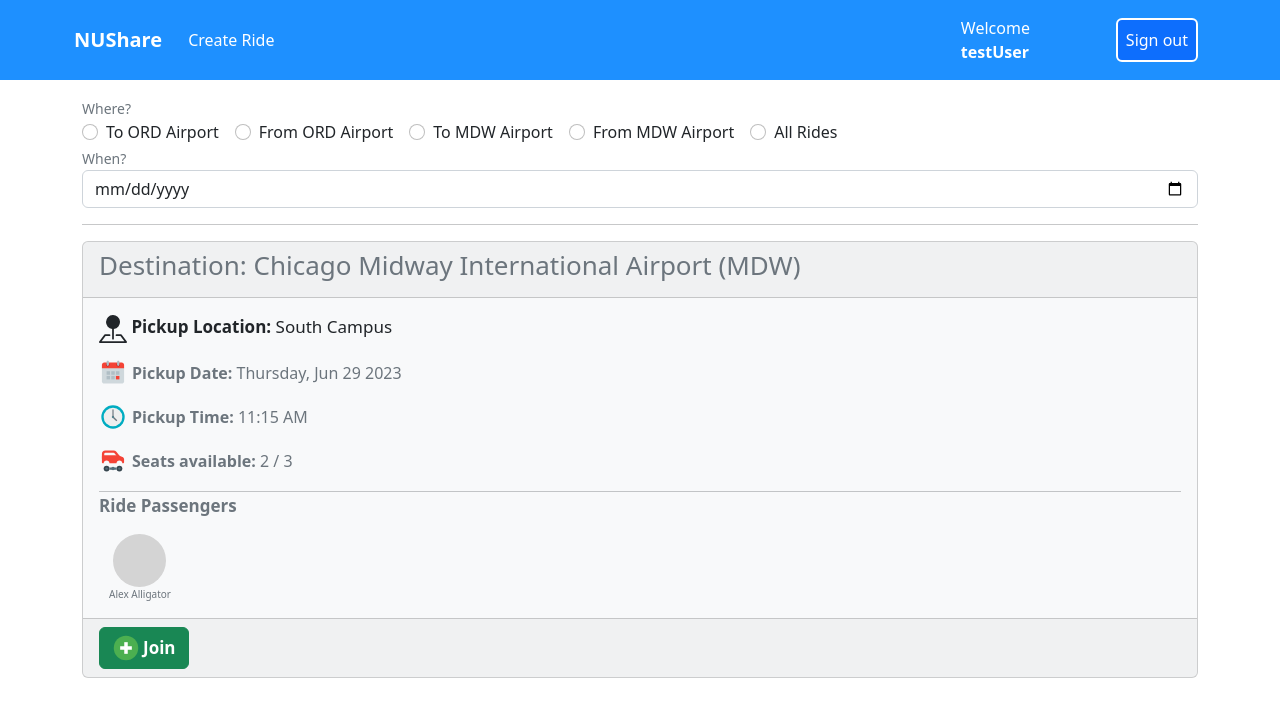
Test: after authentication › displays ord trips on click
Click the radio button with test id "toORD".
click(90, 132)  # box x1=82 y1=124 x2=98 y2=140
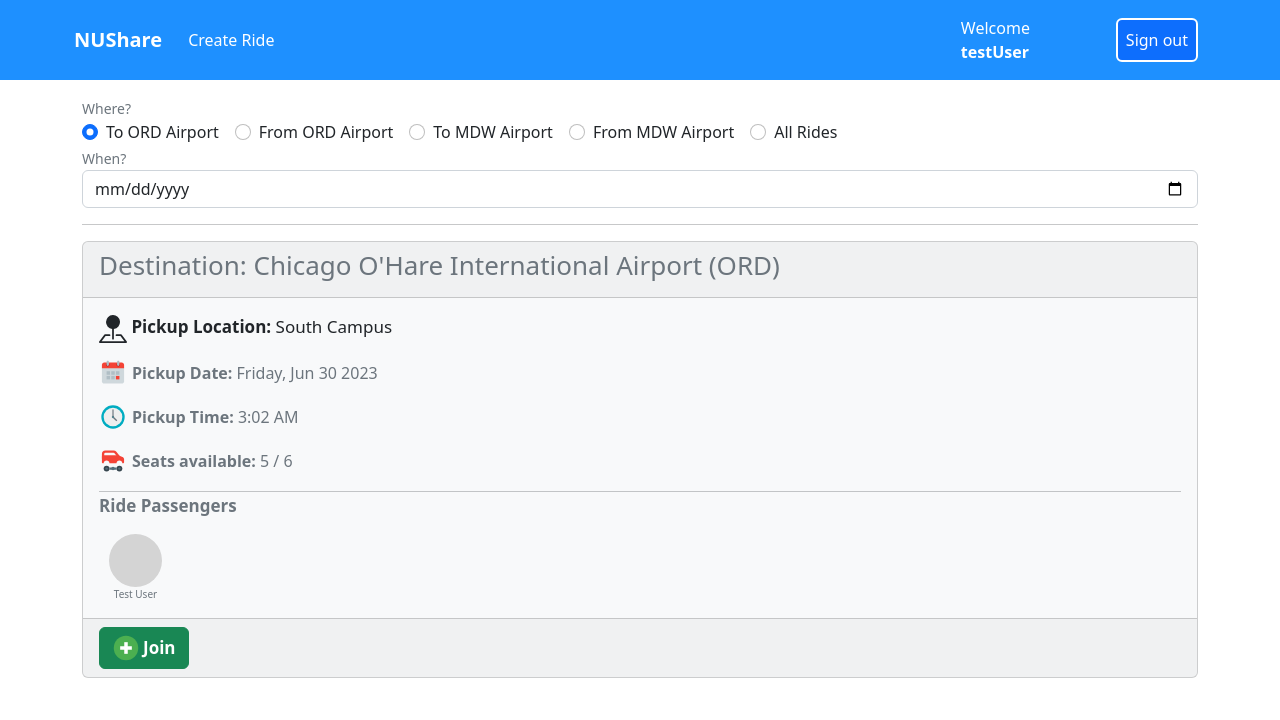
Expected: the text "Destination: Chicago O'Hare International Airport (ORD)" is shown, x1=99 y1=247 x2=780 y2=283
Expected: the text "Destination: Chicago Midway International Airport (MDW)" is gone
